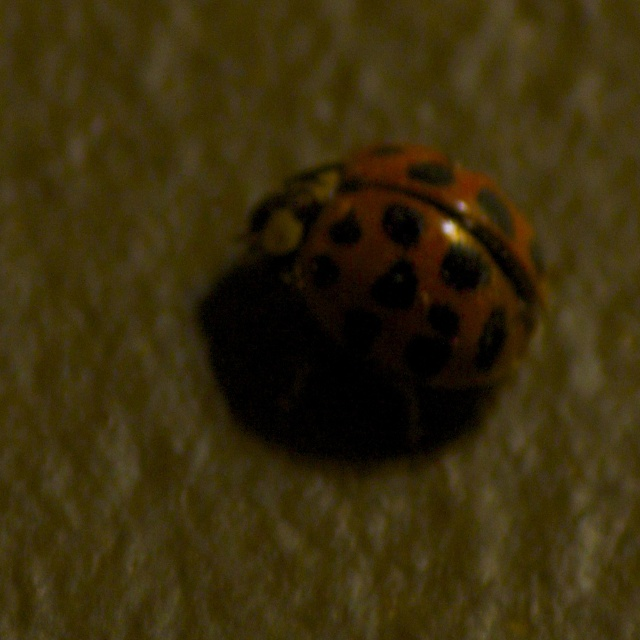Ladybug: (200, 128, 539, 476)
